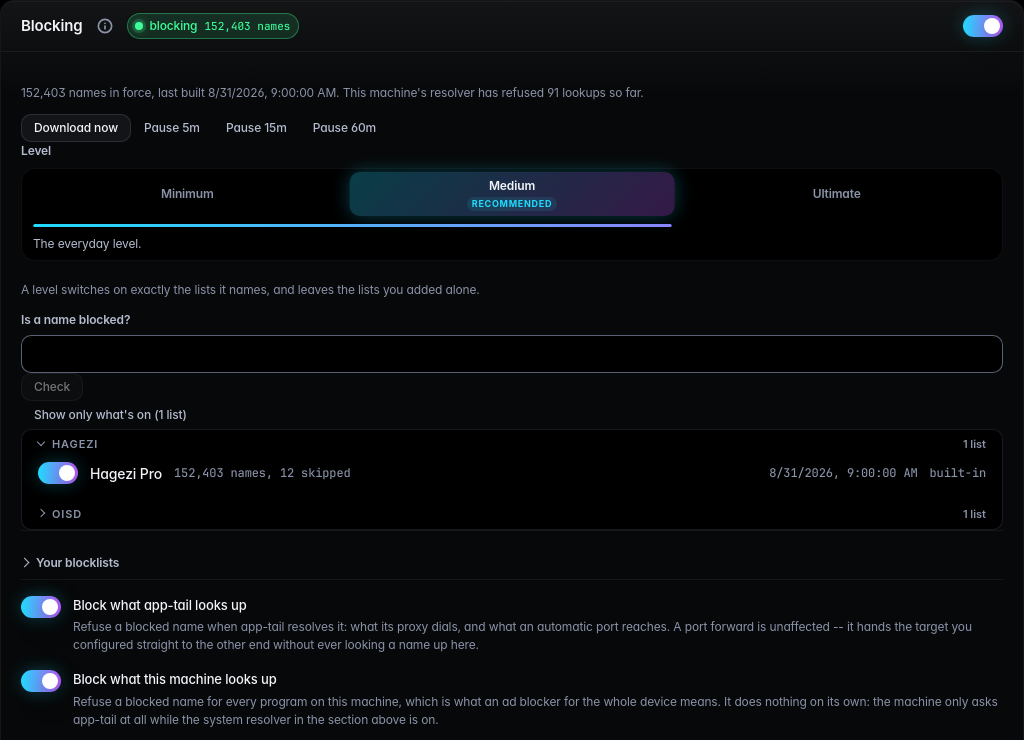
Test: what each list contributed › shows why a row could not be switched, and does not re-read the view
The image size is (1024, 740).
Step 1. Click the checkbox named "Use Hagezi Pro" → click(58, 473), box [38, 462, 78, 484]
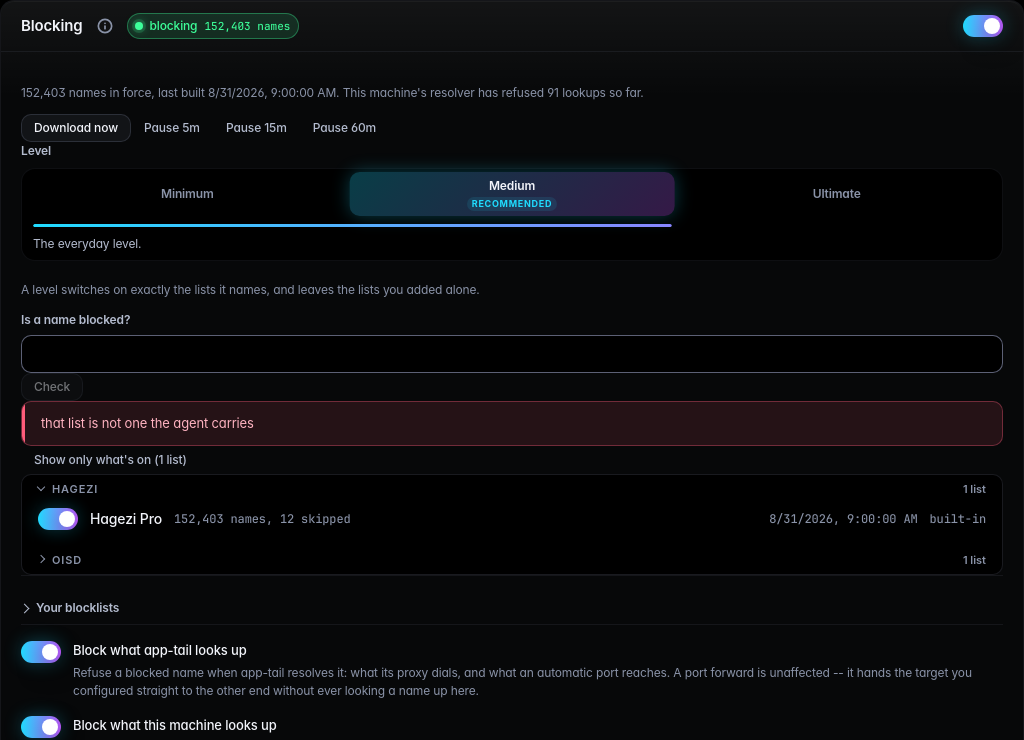
Expected: the text "that list is not one the agent carries" is shown, [21, 400, 1003, 446]
